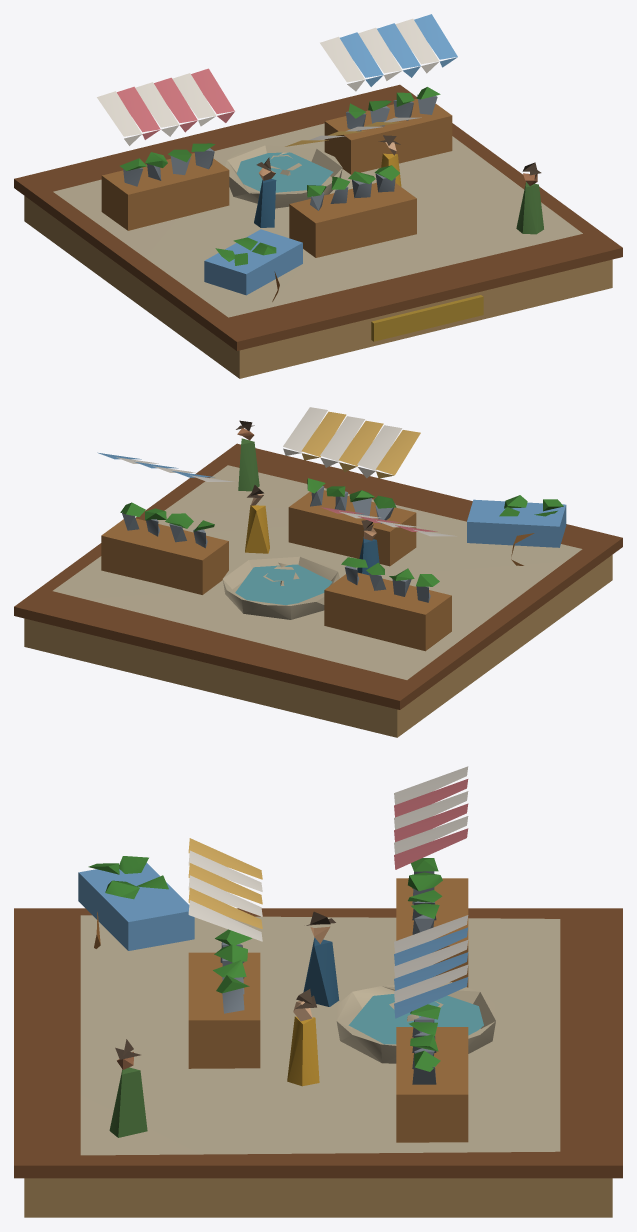
File: flower_market_souvenir.glb
The picture shows the model from 3 angles, top to bottom: view 1: azimuth 30°, elevation 25°; view 2: azimuth 150°, elevation 25°; view 3: azimuth 270°, elevation 25°; orthographic projection. The views are drawn at different scales.
Parts seen in each view (by area): view 1: decor-flower_market_souvenir; view 2: decor-flower_market_souvenir; view 3: decor-flower_market_souvenir.
Part boxes in pixels (x1=…): decor-flower_market_souvenir: x1=14, y1=14, x2=622, y2=378; decor-flower_market_souvenir: x1=14, y1=407, x2=622, y2=737; decor-flower_market_souvenir: x1=14, y1=766, x2=622, y2=1217.
Size of the model in its own units: 1.76 by 0.6966 by 1.76.
